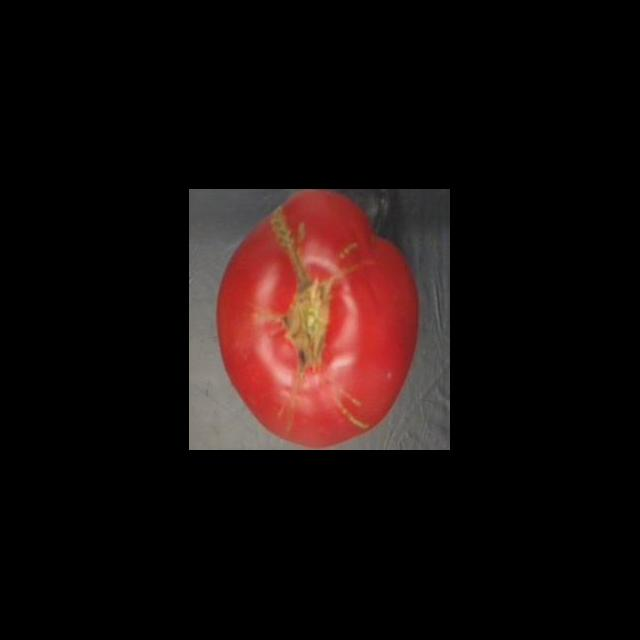tomato: (207, 190, 433, 450)
